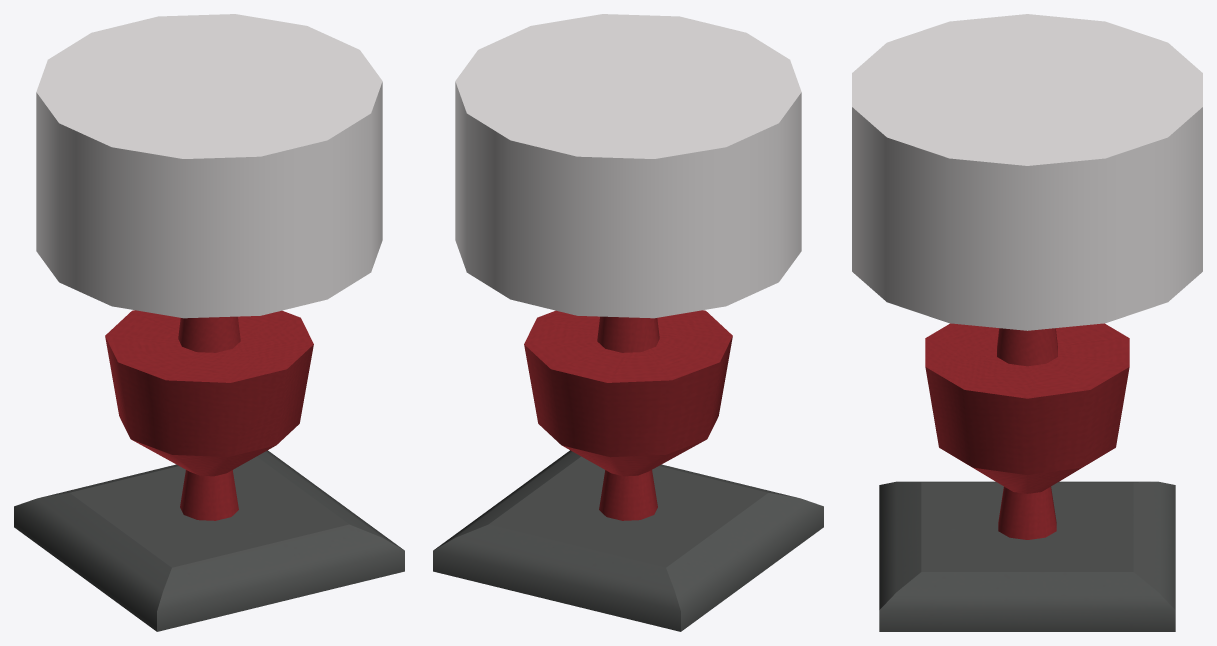
Rendered from Lamp.fbx.
The picture shows the model from 3 angles, left to right: view 1: azimuth 30°, elevation 25°; view 2: azimuth 150°, elevation 25°; view 3: azimuth 270°, elevation 25°; orthographic projection. The views are drawn at different scales.
Visible parts, largest first — view 1: RT_IP_Furniture:LampTop, RT_IP_Furniture:LampBase, RT_IP_Furniture:LampBody; view 2: RT_IP_Furniture:LampTop, RT_IP_Furniture:LampBase, RT_IP_Furniture:LampBody; view 3: RT_IP_Furniture:LampTop, RT_IP_Furniture:LampBase, RT_IP_Furniture:LampBody.
Part boxes in pixels (<box>): RT_IP_Furniture:LampTop: <box>36,14,382,318</box>; RT_IP_Furniture:LampBase: <box>14,450,404,631</box>; RT_IP_Furniture:LampBody: <box>105,310,313,520</box>; RT_IP_Furniture:LampTop: <box>455,14,801,318</box>; RT_IP_Furniture:LampBase: <box>433,450,823,631</box>; RT_IP_Furniture:LampBody: <box>524,310,732,520</box>; RT_IP_Furniture:LampTop: <box>852,14,1202,330</box>; RT_IP_Furniture:LampBase: <box>879,481,1175,631</box>; RT_IP_Furniture:LampBody: <box>925,323,1129,539</box>.
Bounding box in the file's own units: 0.5203 × 0.765 × 0.5073.
